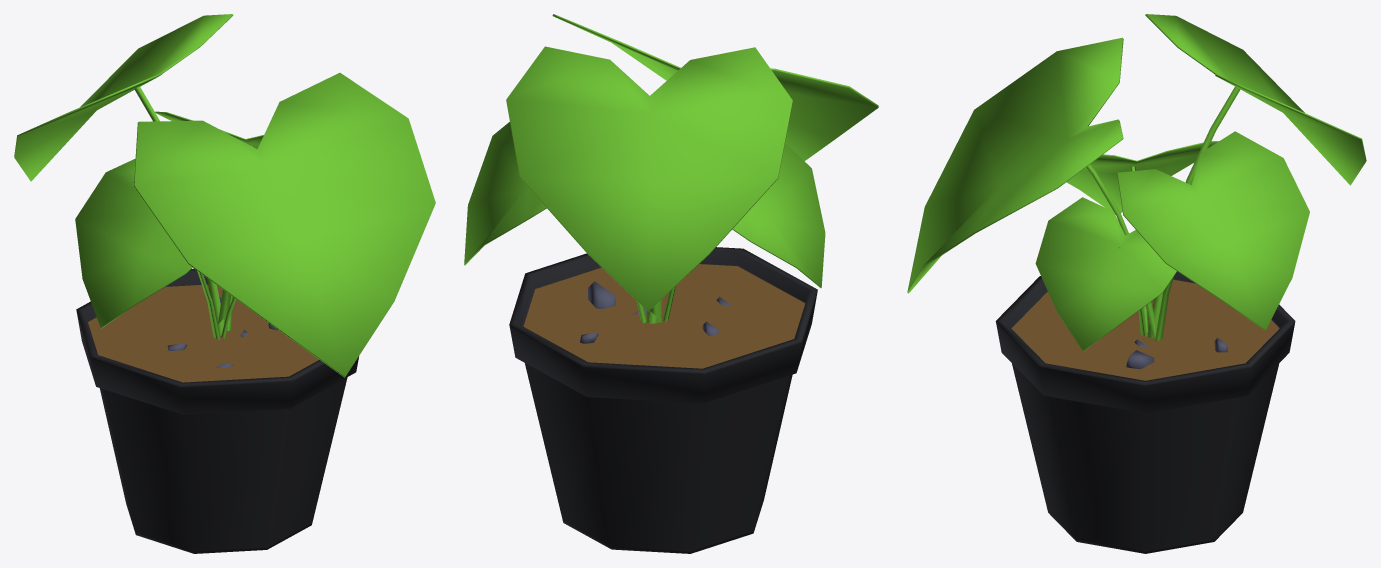
The model's file is Plants_Love_Leaf_1.fbx.
3 views of the same model, side by side, from view 1: azimuth 30°, elevation 25°; view 2: azimuth 150°, elevation 25°; view 3: azimuth 270°, elevation 25° (orthographic). The views are drawn at different scales.
Visible parts, largest first — view 1: Plants_Love_Leaf_1; view 2: Plants_Love_Leaf_1; view 3: Plants_Love_Leaf_1.
Part boxes in pixels (x1,y1,x2,y2): Plants_Love_Leaf_1: (14,14,435,553); Plants_Love_Leaf_1: (464,14,878,553); Plants_Love_Leaf_1: (907,14,1366,553).
Size of the model in its own units: 77.33 by 110 by 100.
